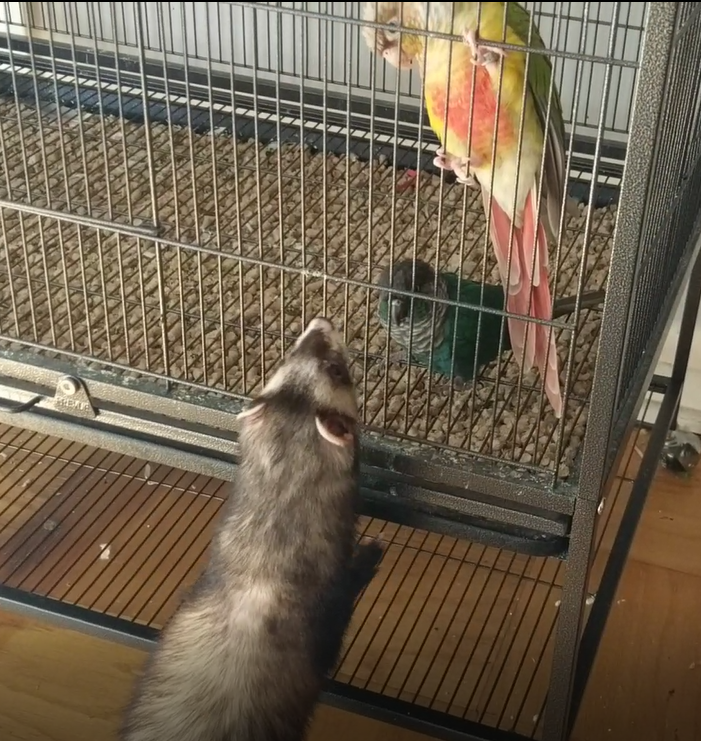Talulah: (121, 318, 386, 738)
